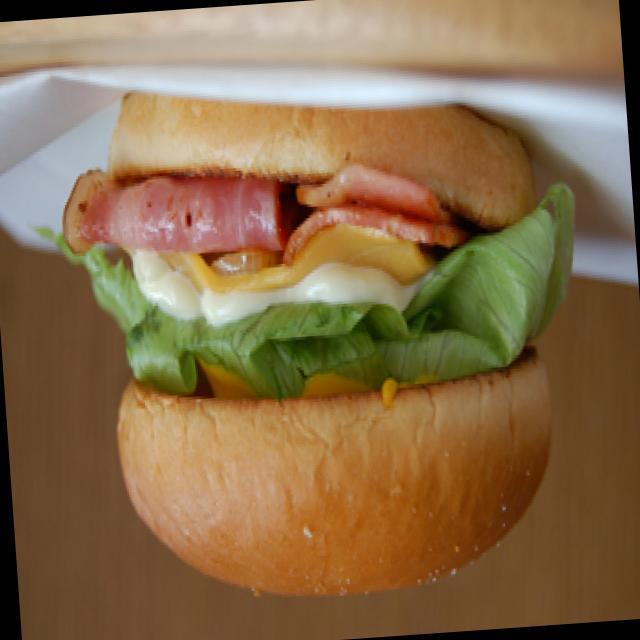Hamburger: (32, 0, 601, 640)
